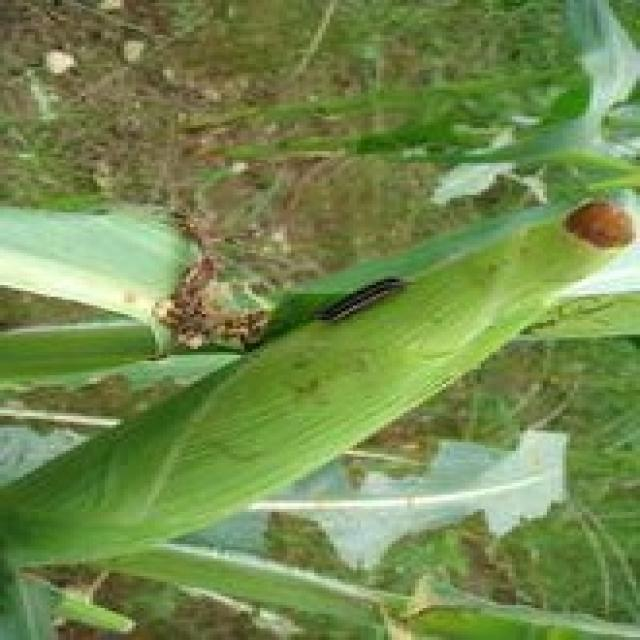army worm: (319, 274, 412, 327)
